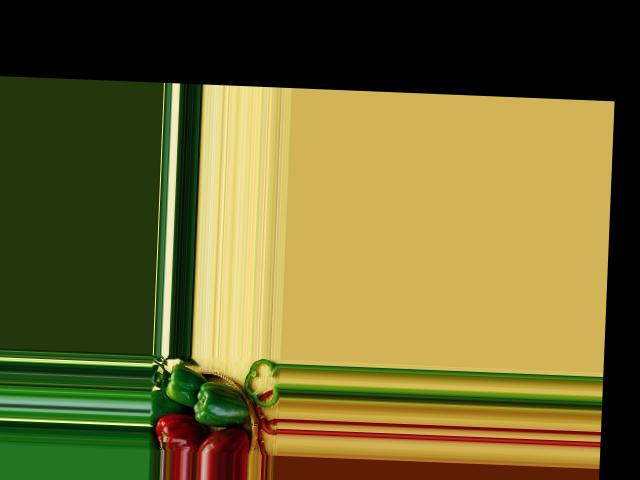bell_pepper: (196, 428, 251, 453)
